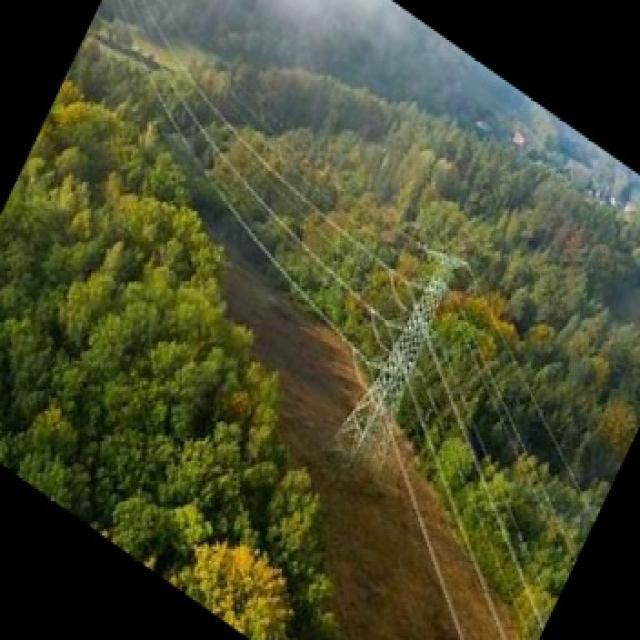utility poles: (334, 198, 463, 482)
